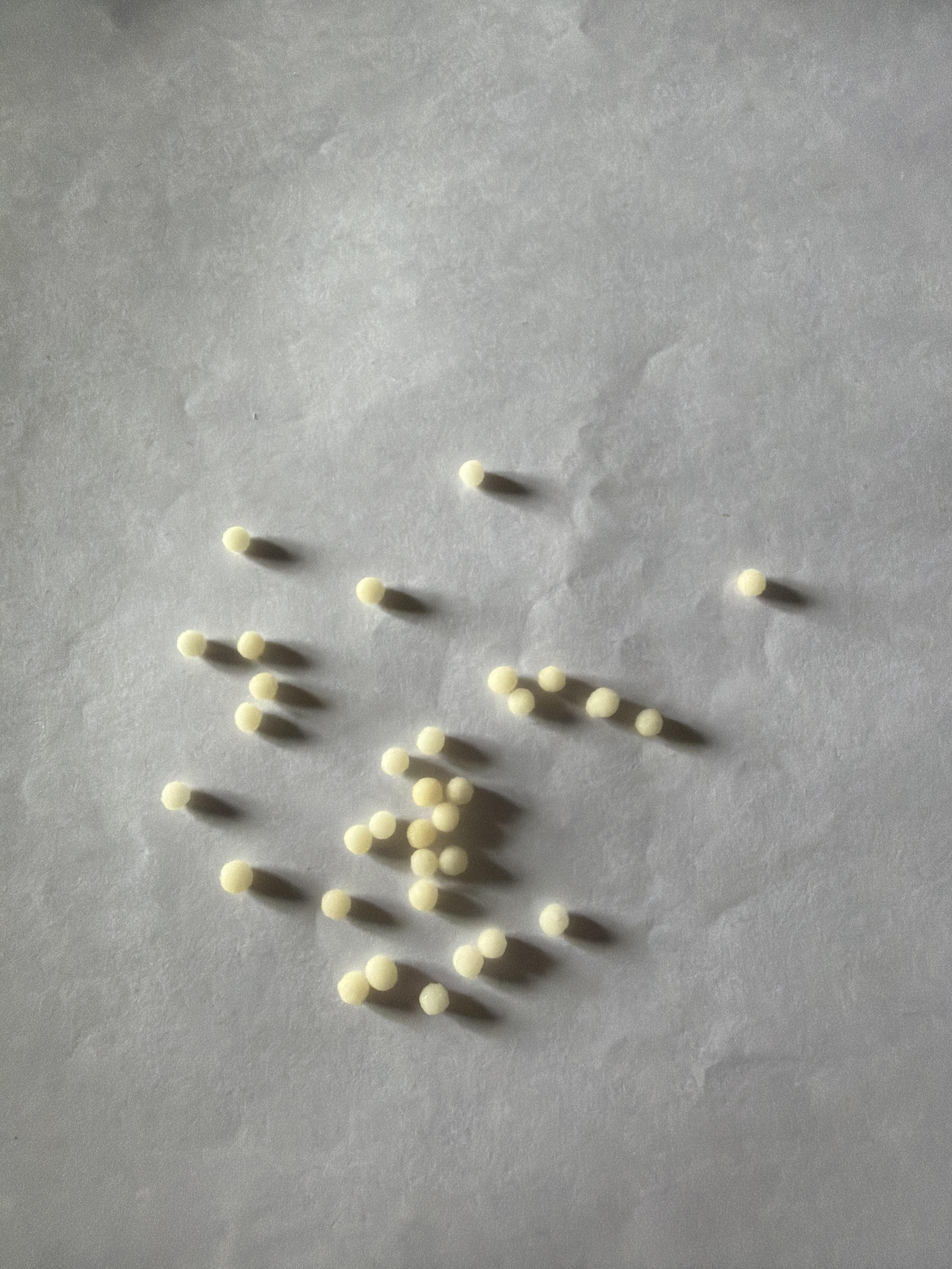pill: (364, 955, 398, 991), (337, 970, 370, 1005), (220, 860, 253, 894), (585, 687, 620, 718), (453, 945, 484, 978), (539, 903, 569, 937), (476, 927, 507, 959), (408, 879, 439, 911), (406, 819, 437, 850), (411, 777, 443, 807), (419, 983, 449, 1015), (321, 889, 351, 920), (343, 824, 373, 854), (487, 666, 518, 695), (439, 845, 468, 876), (160, 781, 190, 810), (235, 702, 263, 733), (176, 629, 207, 657), (445, 776, 474, 805), (634, 708, 663, 737), (416, 726, 445, 755), (355, 577, 385, 605), (737, 569, 767, 597), (249, 672, 278, 700), (237, 631, 265, 660), (381, 747, 409, 776), (368, 811, 396, 840), (432, 802, 459, 832), (507, 688, 535, 716), (410, 849, 438, 877), (222, 526, 251, 553), (537, 666, 566, 692), (458, 460, 484, 488)
